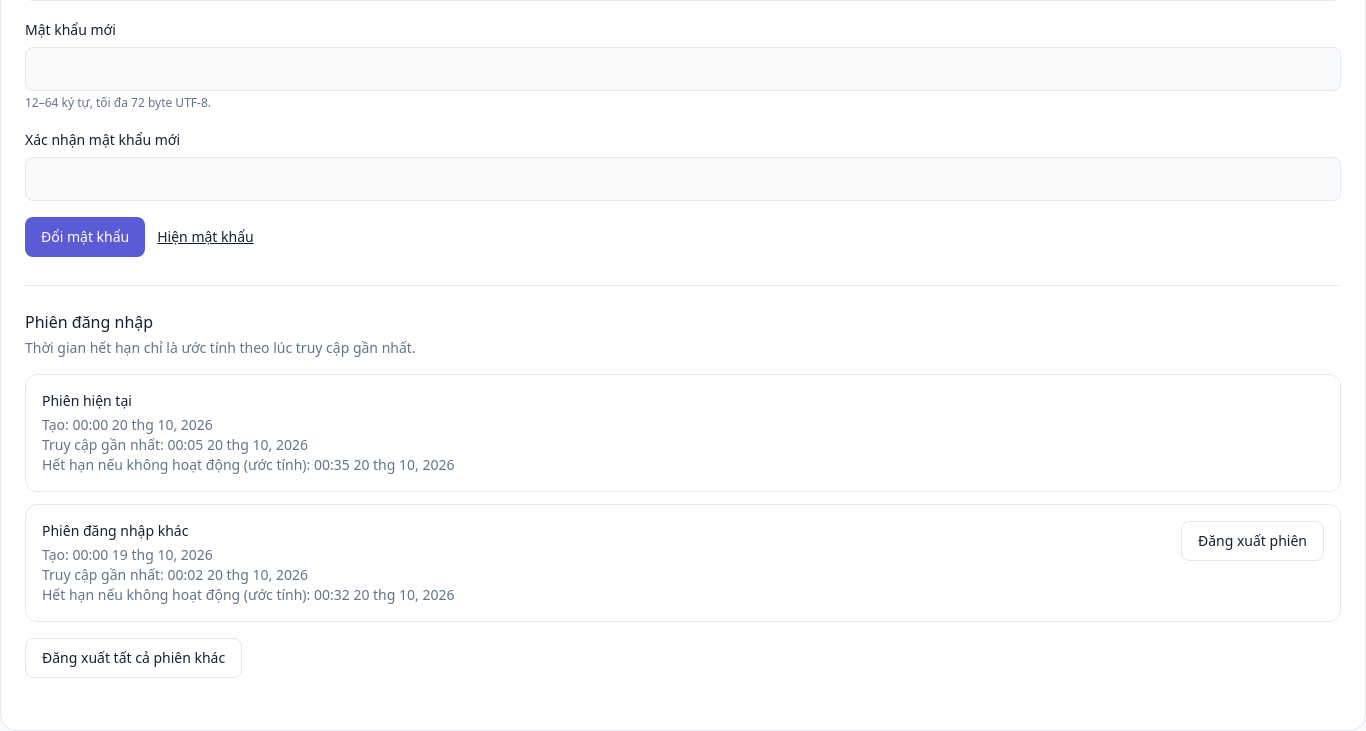
Account security settings › confirms revoking all other sessions and refreshes the list
(page scrolled)
expect the text "Phiên đăng nhập khác" is shown: met, box left=42, top=521, right=188, bottom=540
Click the button "Đăng xuất tất cả phiên khác". click: x=134, y=658
box: left=25, top=638, right=242, bottom=678
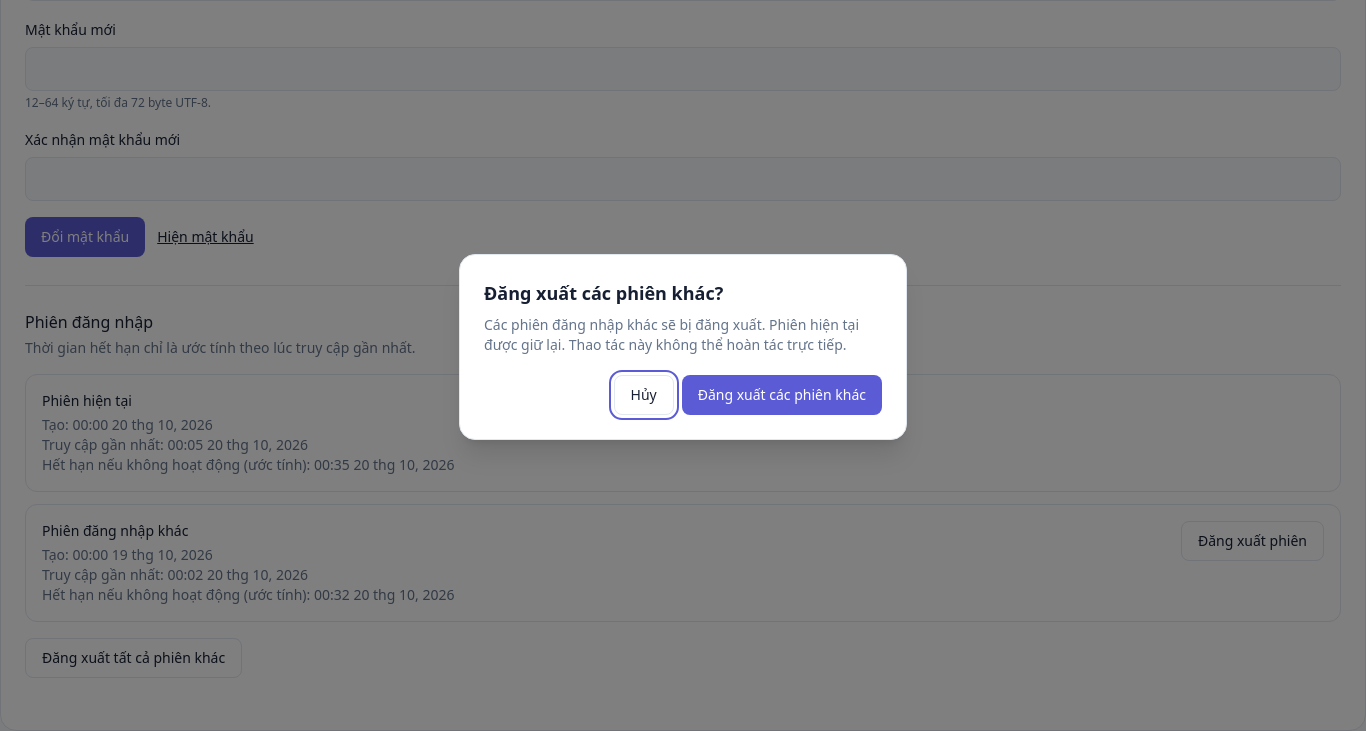
expect the text "Phiên hiện tại được giữ lại" is shown: met, box left=484, top=315, right=859, bottom=354
Click the button "Đăng xuất các phiên khác". click: x=782, y=395
box: left=682, top=375, right=882, bottom=415
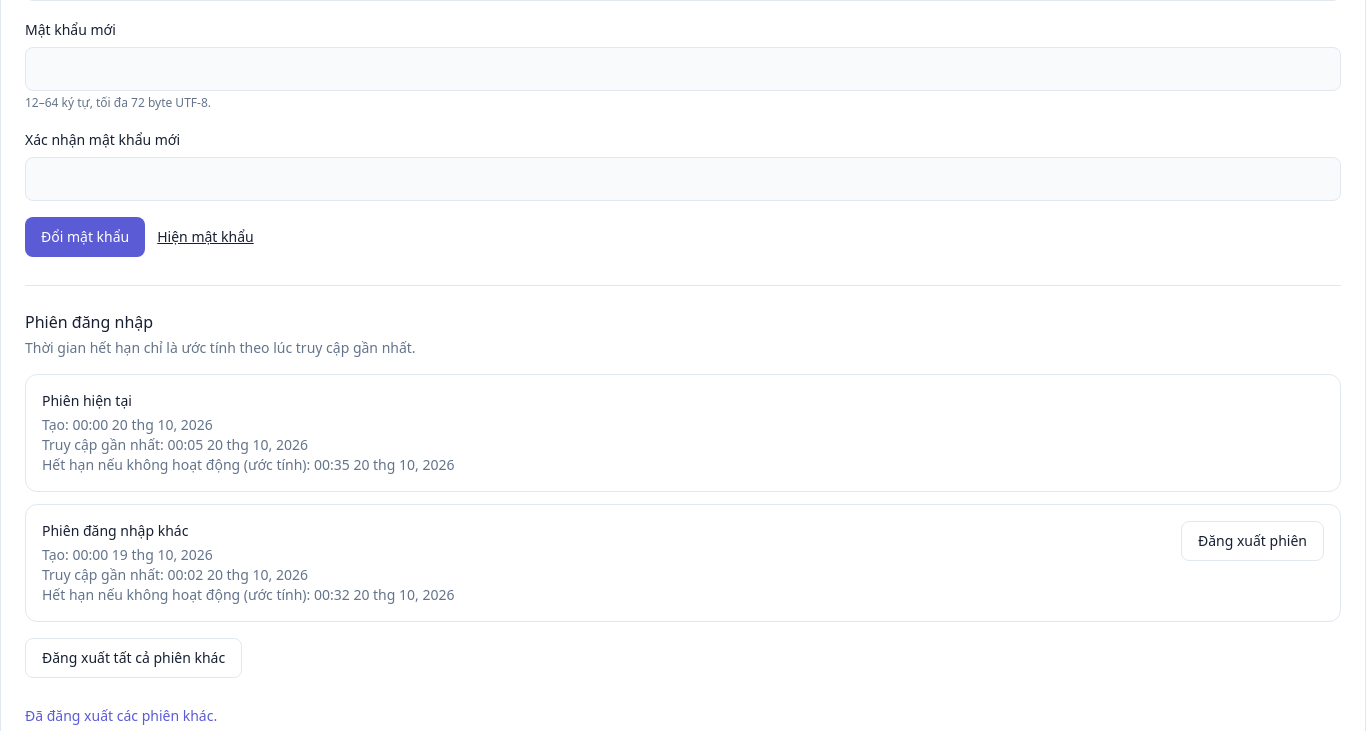
expect the text "Đã đăng xuất các phiên khác." is shown: met, box left=25, top=706, right=217, bottom=725
